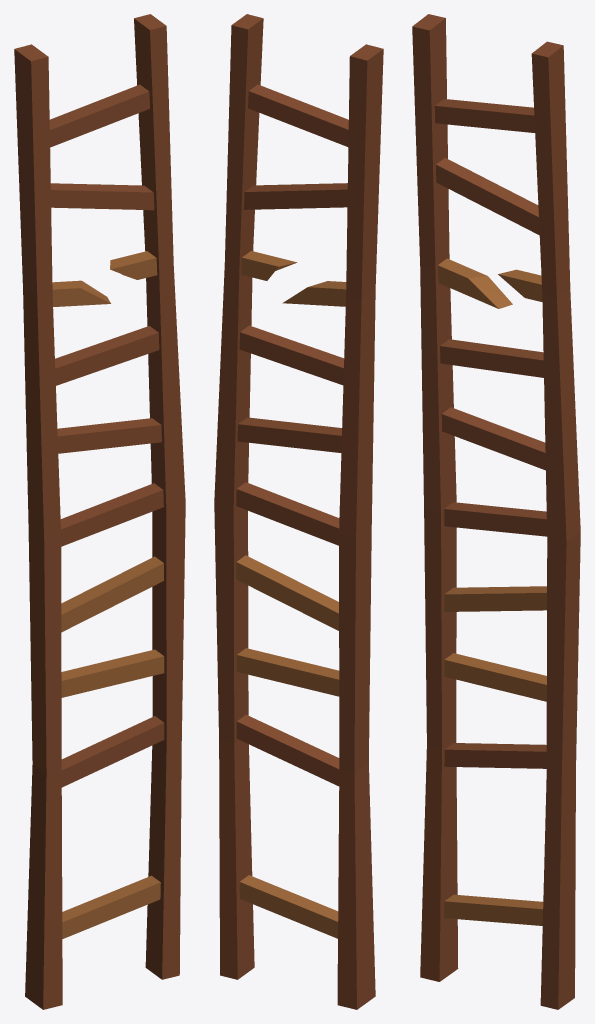
File: LP_PostApoc_LongLadder.fbx
3 renders of one model, left to right at view 1: azimuth 30°, elevation 25°; view 2: azimuth 150°, elevation 25°; view 3: azimuth 330°, elevation 25°, orthographic.
Parts seen in each view (by area): view 1: LongLadder; view 2: LongLadder; view 3: LongLadder.
Boxes of the visible parts, x1=… form: LongLadder: x1=14, y1=14, x2=185, y2=1009; LongLadder: x1=214, y1=14, x2=383, y2=1009; LongLadder: x1=412, y1=14, x2=580, y2=1009.
Size of the model in its own units: 51.84 by 304 by 10.78.
